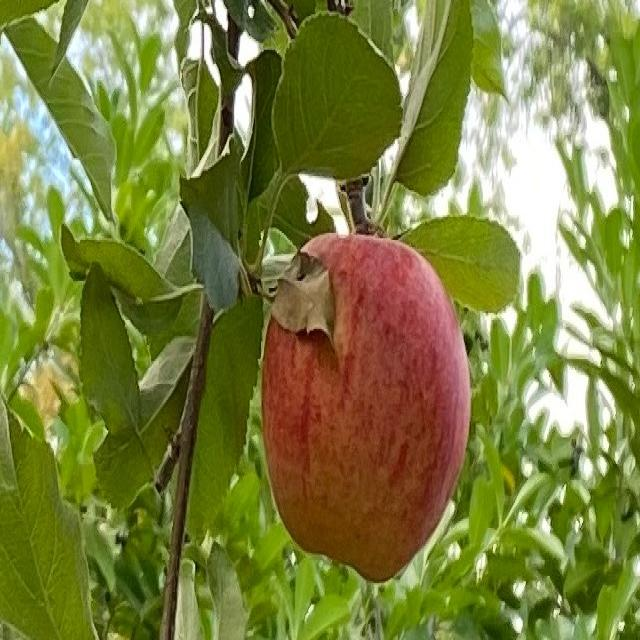100-_ripeness: (261, 235, 470, 583)
